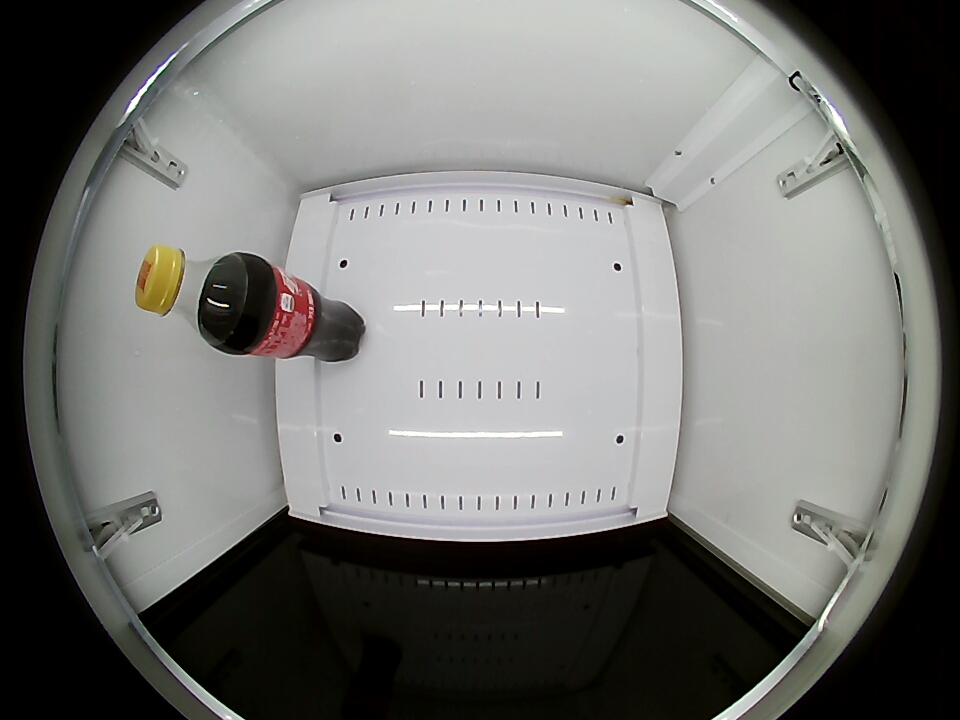kele-b-2: (135, 245, 246, 344)
